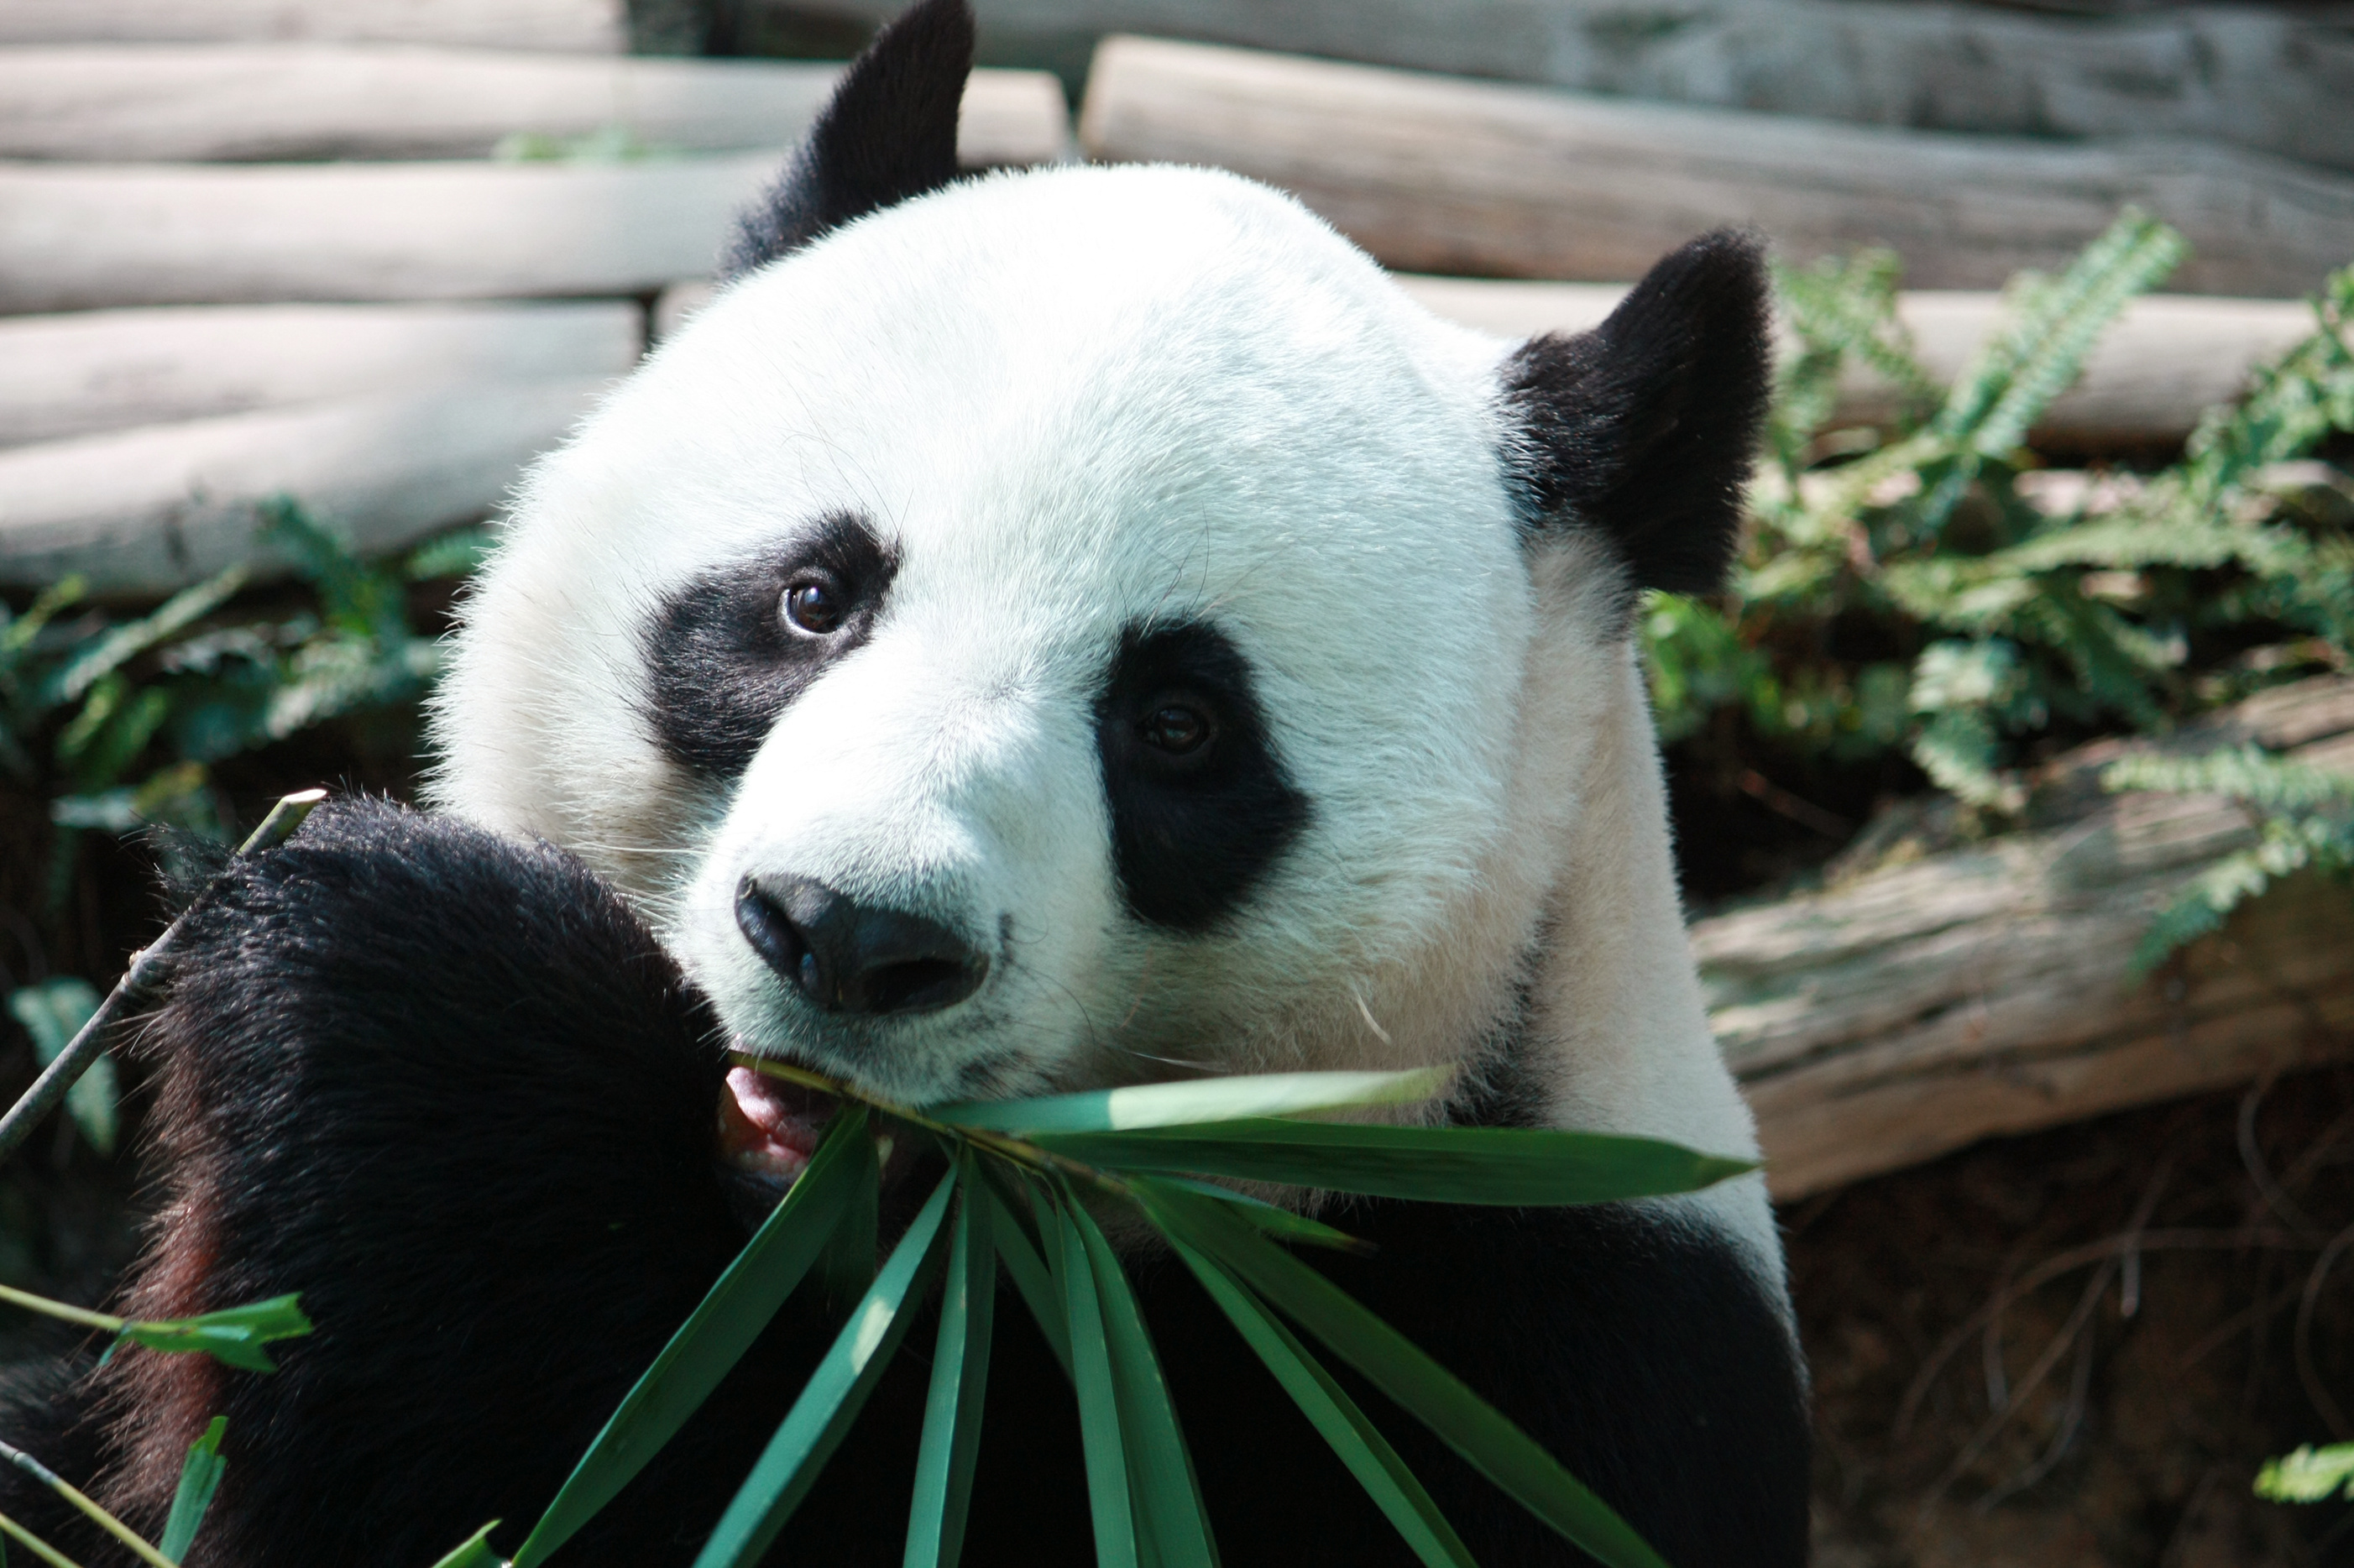panda: (170, 12, 1939, 1566)
